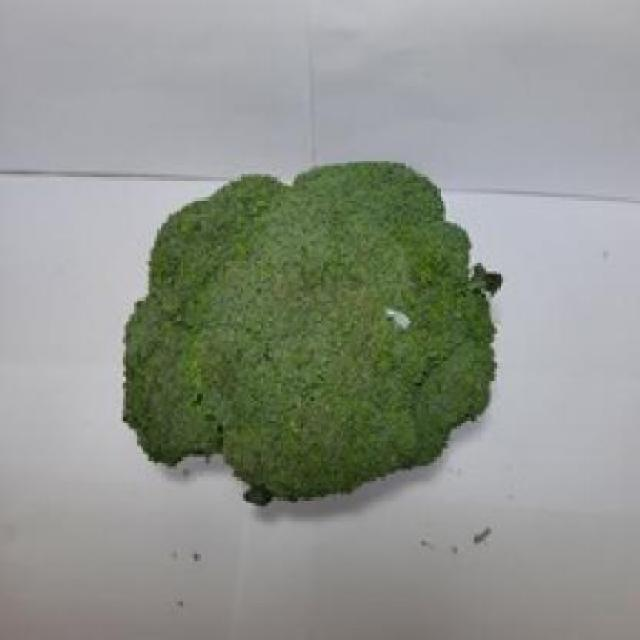broccoli: (120, 160, 500, 486)
